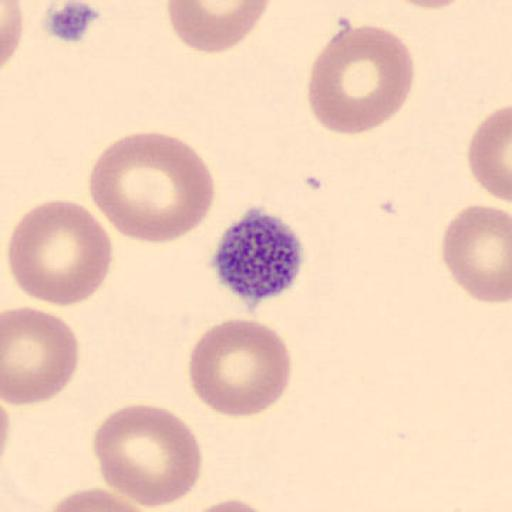Platelet: (207, 206, 308, 307)
RBC: (86, 129, 217, 245), (306, 23, 415, 136), (91, 403, 203, 510), (8, 198, 114, 308), (188, 316, 293, 420), (2, 304, 80, 407), (439, 203, 512, 305), (166, 0, 274, 55), (468, 102, 512, 204), (40, 486, 151, 512), (184, 0, 272, 21), (0, 0, 25, 73), (173, 496, 284, 512), (386, 0, 472, 10)
